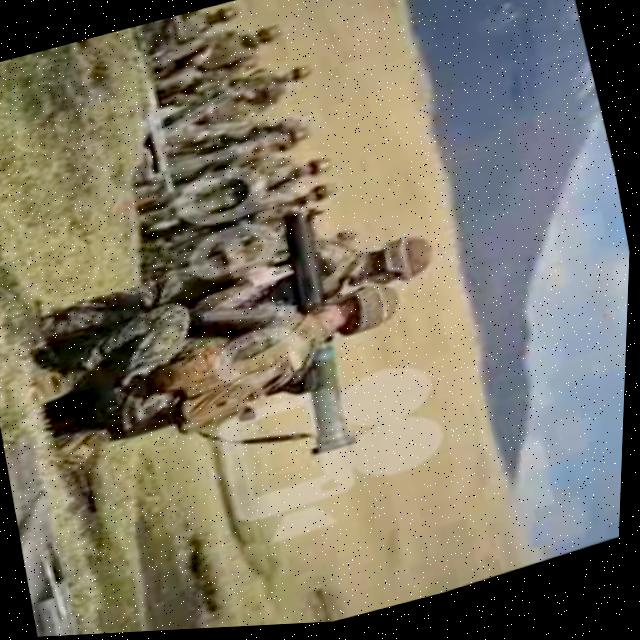rocket: (245, 196, 387, 465)
